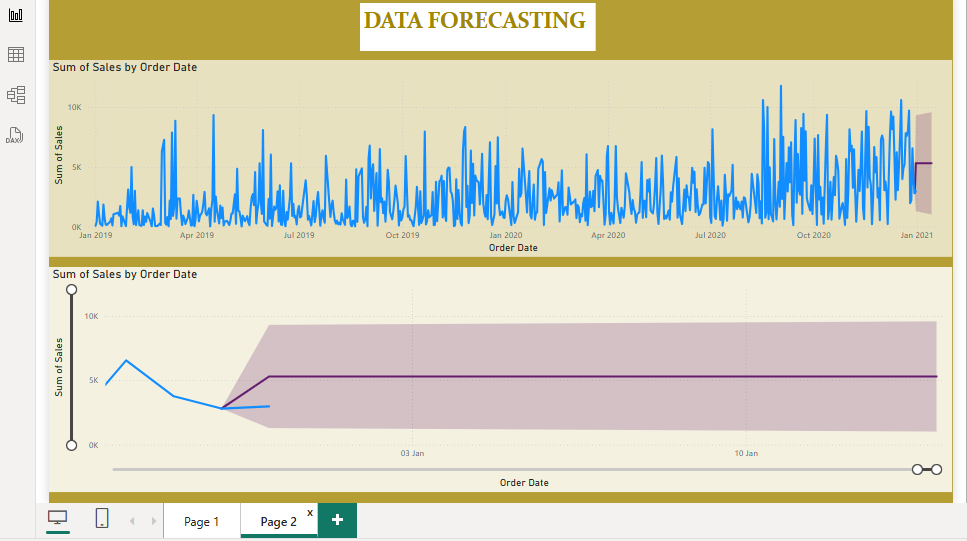

What the dashboard file says about the page in this screenshot:
{"tool":"powerbi","page":{"name":"Page 2","canvas":[1280,720],"ordinal":1},"visuals":[{"type":"lineChart","fields":{"Y":["Sum(Sheet1.Sales)"],"Category":["Sheet1.Order Date"]},"box":[0,92.1,1279.8,279.2],"z":0},{"type":"lineChart","fields":{"Y":["Sum(Sheet1.Sales)"],"Category":["Sheet1.Order Date"]},"box":[0,385.5,1279.8,318.9],"z":1000},{"type":"textbox","box":[440.8,11.3,334.5,68],"z":2000}]}

Visuals, with their boxes on the page's 1280x720 design canvas (x1, y1, x2, y2). These are canvas units, not pixel positions in the 967x541 screenshot, which may show the page scaled, cropped or inside an application window:
lineChart - Sum(Sheet1.Sales) x Sheet1.Order Date: (0, 92, 1280, 371)
lineChart - Sum(Sheet1.Sales) x Sheet1.Order Date: (0, 386, 1280, 704)
textbox: (441, 11, 775, 79)
